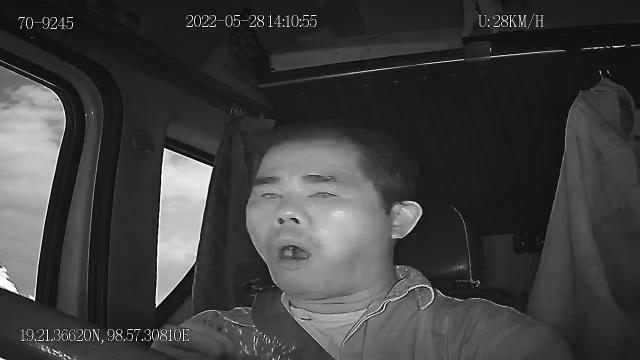SafeDriving: (298, 178, 347, 207), (250, 179, 289, 206)
Seatbelt: (246, 286, 338, 360)
